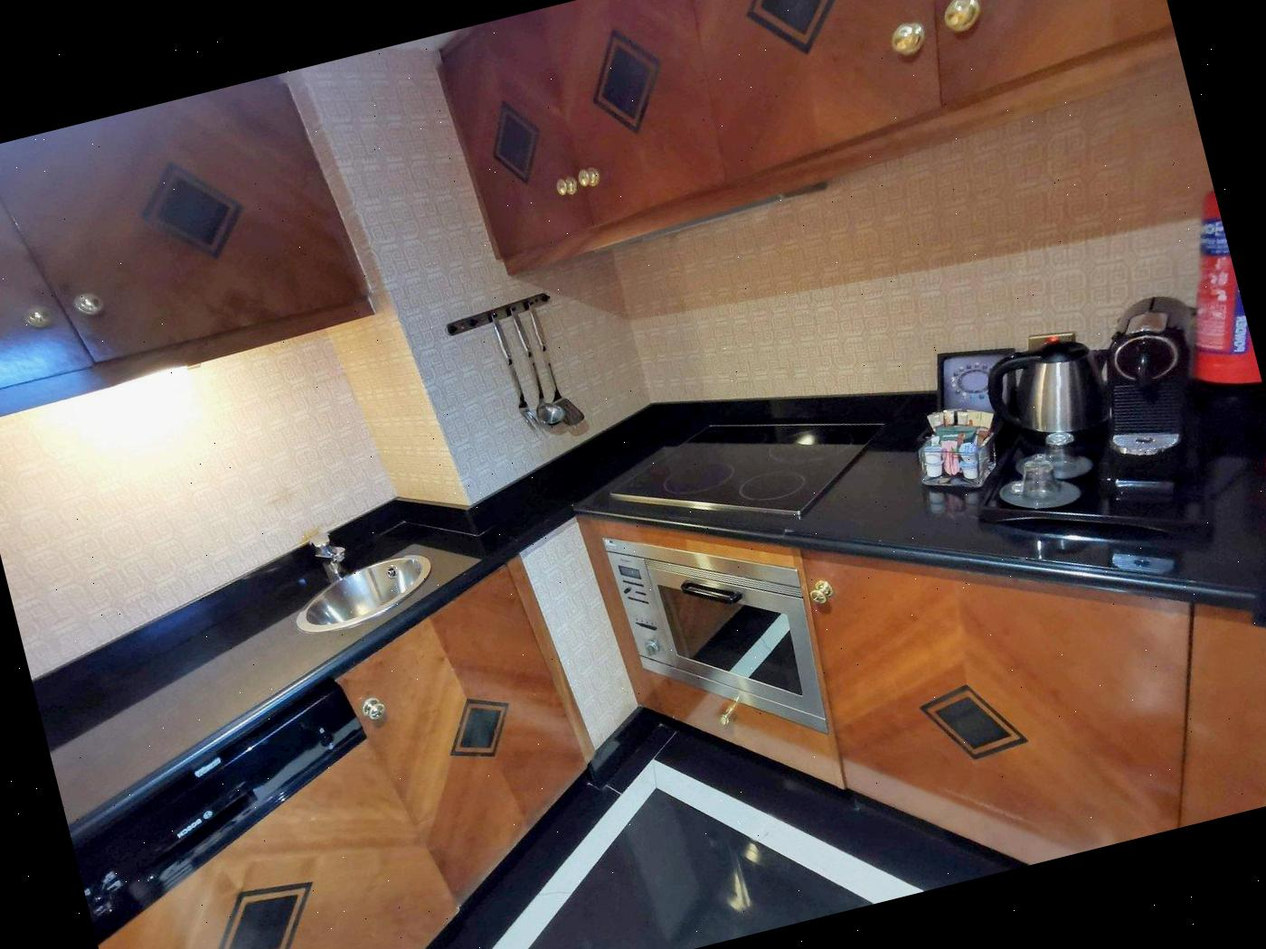clean_floor: (419, 710, 1015, 949)
clean_sink: (272, 502, 445, 655)
organized table: (572, 302, 1266, 862), (53, 493, 589, 949)
